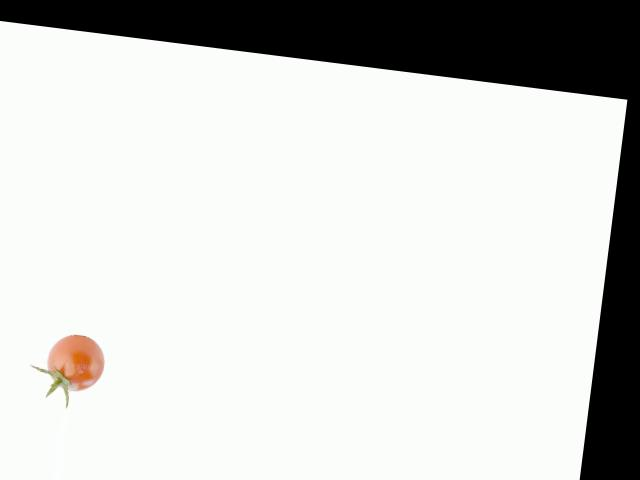tomato: (45, 331, 108, 393)
